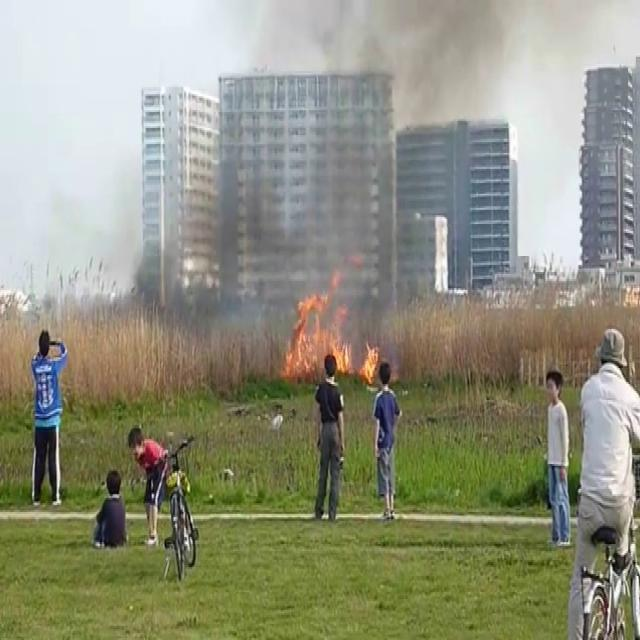Fire: (280, 273, 382, 387)
Smoke: (115, 0, 532, 308)
